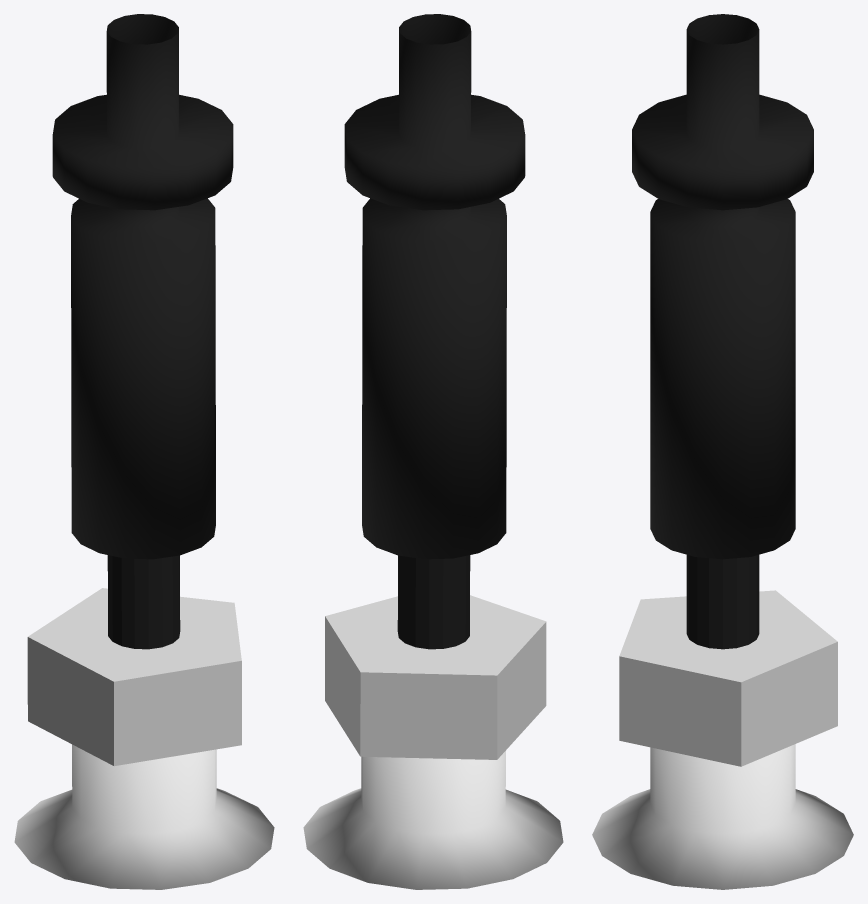
Rendered from suctionTool.dae.
3 renders of one model, left to right at view 1: azimuth 30°, elevation 25°; view 2: azimuth 150°, elevation 25°; view 3: azimuth 270°, elevation 25°, orthographic.
Parts seen in each view (by area): view 1: Cylinder_002; view 2: Cylinder_002; view 3: Cylinder_002.
Part boxes in pixels (bbox=[...]): Cylinder_002: bbox=[14, 14, 274, 889]; Cylinder_002: bbox=[303, 14, 563, 889]; Cylinder_002: bbox=[592, 14, 853, 889].
Bounding box in the file's own units: 0.0225 × 0.0225 × 0.0763.
1 material, 1 textured.
